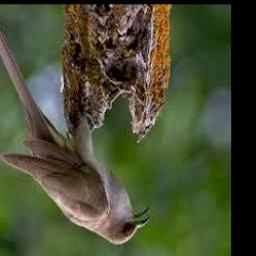Cuckoo: (0, 7, 151, 244)
